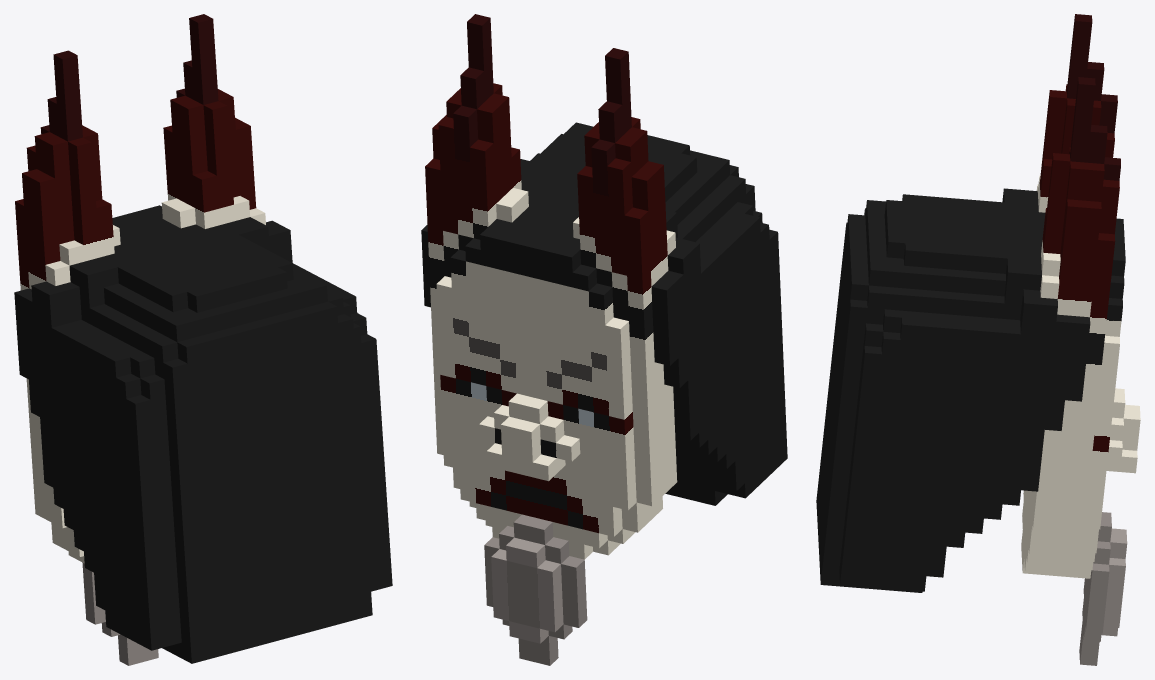
3 views of the same model, side by side, from view 1: azimuth 30°, elevation 25°; view 2: azimuth 150°, elevation 25°; view 3: azimuth 270°, elevation 25° (orthographic). The views are drawn at different scales.
Visible parts, largest first — view 1: Equip_Head-Local; view 2: Equip_Head-Local; view 3: Equip_Head-Local.
Part boxes in pixels (x1,y1,x2,y2): Equip_Head-Local: [14, 14, 392, 665]; Equip_Head-Local: [421, 14, 787, 665]; Equip_Head-Local: [816, 14, 1140, 665].
Size of the model in its own units: 16.51 by 39.37 by 19.04.
Materials: 1 (1 with a texture image).
